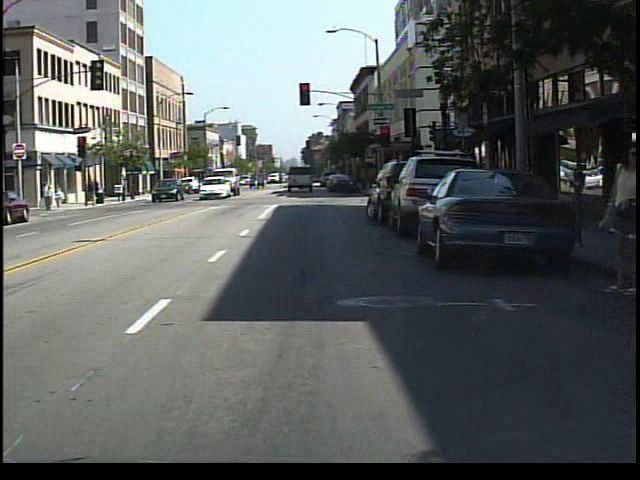person: (41, 179, 55, 214), (53, 180, 68, 209)
